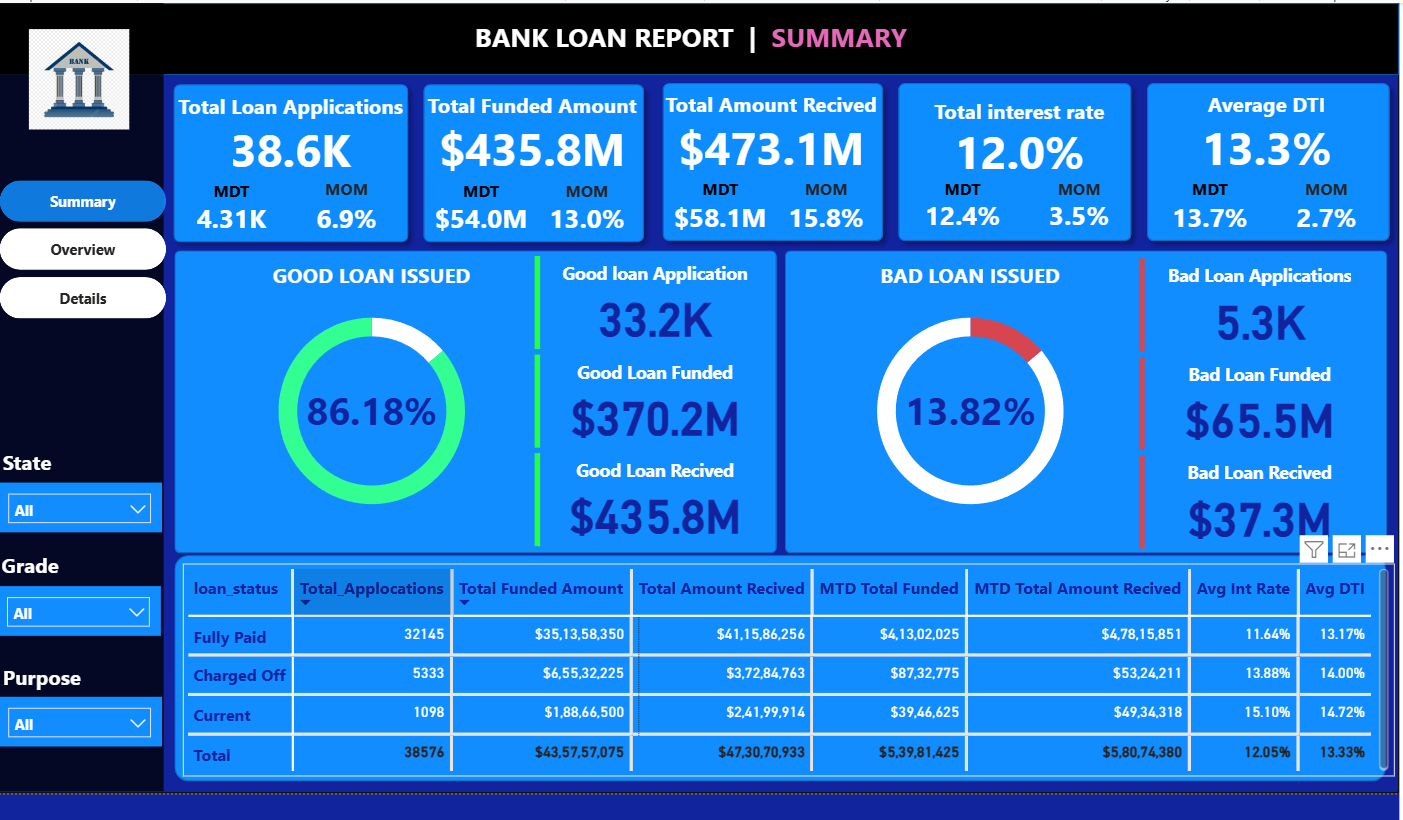

Layout of this report page (visuals, bound fields, positions):
{"tool":"powerbi","page":{"name":"Summary","canvas":[1280,720],"ordinal":0},"visuals":[{"type":"shape","box":[0,0,1280.1,65.8],"z":0},{"type":"textbox","box":[431.8,8.9,416.6,46.8],"z":1000},{"type":"shape","box":[0,0,153.2,719.2],"z":2000},{"type":"shape","box":[599.6,64.1,218.9,162.1],"z":3000,"group":"g3"},{"type":"shape","box":[814.3,64.1,230.4,162.1],"z":3000,"group":"g4"},{"type":"shape","box":[1040.3,64.1,239.3,162.1],"z":3000,"group":"g5"},{"type":"group","id":"g1","title":"Group 1","box":[149.2,65.5,241.2,163.1],"z":3000},{"type":"shape","box":[153.7,65.5,232,162.1],"z":3000,"group":"g1"},{"type":"shape","box":[380.7,65.5,219,162.1],"z":3000,"group":"g2"},{"type":"group","id":"g2","title":"Group 1","box":[380.7,65.5,218.9,161.8],"z":4000},{"type":"card","title":"Total Amount Recived","fields":{"Values":["financial_loan.Total Amount Recived"]},"box":[599.7,79.2,216.2,78.8],"z":4000,"group":"g3"},{"type":"card","title":"Average DTI","fields":{"Values":["financial_loan.Avg DTI"]},"box":[1040.4,79.2,236.3,78.8],"z":4000,"group":"g5"},{"type":"card","title":"Total Funded Amount","fields":{"Values":["financial_loan.Total_Amount"]},"box":[380.8,80.6,216.3,78.8],"z":4000,"group":"g2"},{"type":"card","title":"Total Loan Applications","fields":{"Values":["Date Table.Total_Apps"]},"box":[149.2,81.5,240.1,77.3],"z":4000,"group":"g1"},{"type":"card","title":"Total interest rate","fields":{"Values":["financial_loan.Total Int Rate"]},"box":[815.1,85.5,236.8,72.3],"z":4000,"group":"g4"},{"type":"group","id":"g3","title":"Group 1","box":[599.6,64.1,218.9,163.1],"z":5000},{"type":"card","title":"MDT","fields":{"Values":["financial_loan.MTD Total intrest rate"]},"box":[825.1,159.1,113.4,49.9],"z":5000,"group":"g4"},{"type":"card","title":"MDT","fields":{"Values":["financial_loan.MTD Total Amount Recived"]},"box":[608.9,159.4,103.5,54.4],"z":5000,"group":"g3"},{"type":"card","title":"MDT","fields":{"Values":["financial_loan.MTD Avg DTI"]},"box":[1050.4,159.4,113.1,54.4],"z":5000,"group":"g5"},{"type":"card","title":"MDT","fields":{"Values":["financial_loan.MTD Total Amount"]},"box":[390,160.8,103.5,54.4],"z":5000,"group":"g2"},{"type":"card","title":"MDT","fields":{"Values":["Date Table.MTD Loan Application"]},"box":[178,161.5,73.6,54.4],"z":5000,"group":"g1"},{"type":"group","id":"g4","title":"Group 1","box":[814.3,64.1,235.7,163.1],"z":6000},{"type":"card","title":"MOM","fields":{"Values":["financial_loan.MoM int rate"]},"box":[931.3,159.1,113.4,49.9],"z":6000,"group":"g4"},{"type":"card","title":"MOM","fields":{"Values":["financial_loan.MoM Total Amount Recived"]},"box":[705.8,159.4,103.5,54.4],"z":6000,"group":"g3"},{"type":"card","title":"MOM","fields":{"Values":["financial_loan.MoM Avg DTI"]},"box":[1156.4,159.4,113.1,54.4],"z":6000,"group":"g5"},{"type":"card","title":"MOM","fields":{"Values":["financial_loan.MoM"]},"box":[277.5,160.2,86.1,55.8],"z":6000,"group":"g1"},{"type":"card","title":"MOM","fields":{"Values":["financial_loan.MoM Total Amount"]},"box":[487,160.8,103.5,54.4],"z":6000,"group":"g2"},{"type":"group","id":"g5","title":"Group 1","box":[0.6,64.1,1279,418.6],"z":7000,"group":"g10"},{"type":"shape","box":[163.1,225.9,549.4,276.1],"z":7000},{"type":"shape","box":[719.5,225.9,549.4,276.1],"z":8000},{"type":"group","id":"g6","title":"Group 2","box":[178.3,235.8,329.5,247.9],"z":9000},{"type":"cardVisual","fields":{"Data":["financial_loan.Goodc Loan Applications","financial_loan.Good Loan Funded","financial_loan.Good Loan Recived"]},"box":[486.5,225.8,230.8,275.6],"z":10000},{"type":"donutChart","title":"GOOD LOAN ISSUED","fields":{"Y":["CountNonNull(financial_loan.Status Catogory)"],"Category":["financial_loan.Status Catogory"]},"box":[178.3,235.8,329.5,247.9],"z":10000,"group":"g9"},{"type":"donutChart","title":"BAD LOAN ISSUED","fields":{"Y":["CountNonNull(financial_loan.Status Catogory)"],"Category":["financial_loan.Status Catogory"]},"box":[723.9,235.8,329.5,247.9],"z":10000,"group":"g8"},{"type":"cardVisual","fields":{"Data":["financial_loan.Bad Loan Applications","financial_loan.Bad Loan Funded","financial_loan.Bad Loan Recived"]},"box":[1037.7,227.5,230.8,275.6],"z":11000},{"type":"card","fields":{"Values":["financial_loan.Good loan Application"]},"box":[276.1,311.4,134,119.4],"z":11000,"group":"g9"},{"type":"card","fields":{"Values":["financial_loan.Bad loan Application"]},"box":[821.7,311.4,134,119.4],"z":11000,"group":"g8"},{"type":"group","id":"g7","title":"Group 3","box":[178.3,235.8,329.5,247.9],"z":11002,"group":"g6"},{"type":"group","id":"g8","title":"Group 4","box":[723.9,235.8,328.7,247.4],"z":12000},{"type":"group","id":"g9","title":"Group 4","box":[178.3,235.8,329.5,247.9],"z":12001,"group":"g7"},{"type":"shape","box":[163.3,503.9,1105.4,206.4],"z":13000},{"type":"slicer","fields":{"Values":["financial_loan.grade"]},"box":[-0.4,531.6,150.7,45.6],"z":14000},{"type":"slicer","fields":{"Values":["financial_loan.address_state"]},"box":[0.6,437.2,150.7,45.6],"z":14001,"group":"g5"},{"type":"slicer","fields":{"Values":["financial_loan.purpose"]},"box":[0.7,632.7,150.7,45.6],"z":15000},{"type":"pivotTable","fields":{"Rows":["financial_loan.loan_status"],"Values":["Date Table.Total_Applocations","financial_loan.Total_Amount","financial_loan.Total Amount Recived","financial_loan.MTD Total Amount","financial_loan.MTD Total Amount Recived","financial_loan.Total Int Rate","financial_loan.Avg DTI"]},"box":[170.9,511.5,1105.4,193.7],"z":16000},{"type":"textbox","box":[1.1,401.1,77.2,36.7],"z":16002,"group":"g10"},{"type":"textbox","box":[0.1,495.5,77.2,36.7],"z":17000},{"type":"textbox","box":[0.9,597.1,100,36.7],"z":18000},{"type":"group","id":"g10","title":"Group 5","box":[0.6,64.1,1279,418.6],"z":19000},{"type":"pageNavigator","box":[2.9,161.7,152.8,126.4],"z":19001},{"type":"image","box":[25,8.8,101.4,122],"z":19002}]}

Visuals, with their boxes on the page's 1280x720 design canvas (x1, y1, x2, y2). These are canvas units, not pixel positions in the 1403x820 screenshot, which may show the page scaled, cropped or inside an application window:
shape: Rect(0, 0, 1280, 66)
textbox: Rect(432, 9, 848, 56)
shape: Rect(0, 0, 153, 719)
shape: Rect(600, 64, 818, 226)
shape: Rect(814, 64, 1045, 226)
shape: Rect(1040, 64, 1280, 226)
"Group 1" group: Rect(149, 66, 390, 229)
shape: Rect(154, 66, 386, 228)
shape: Rect(381, 66, 600, 228)
"Group 1" group: Rect(381, 66, 600, 227)
"Total Amount Recived" card: Rect(600, 79, 816, 158)
"Average DTI" card: Rect(1040, 79, 1277, 158)
"Total Funded Amount" card: Rect(381, 81, 597, 159)
"Total Loan Applications" card: Rect(149, 82, 389, 159)
"Total interest rate" card: Rect(815, 86, 1052, 158)
"Group 1" group: Rect(600, 64, 818, 227)
"MDT" card: Rect(825, 159, 938, 209)
"MDT" card: Rect(609, 159, 712, 214)
"MDT" card: Rect(1050, 159, 1164, 214)
"MDT" card: Rect(390, 161, 494, 215)
"MDT" card: Rect(178, 162, 252, 216)
"Group 1" group: Rect(814, 64, 1050, 227)
"MOM" card: Rect(931, 159, 1045, 209)
"MOM" card: Rect(706, 159, 809, 214)
"MOM" card: Rect(1156, 159, 1270, 214)
"MOM" card: Rect(278, 160, 364, 216)
"MOM" card: Rect(487, 161, 590, 215)
"Group 1" group: Rect(1, 64, 1280, 483)
shape: Rect(163, 226, 712, 502)
shape: Rect(720, 226, 1269, 502)
"Group 2" group: Rect(178, 236, 508, 484)
cardVisual - financial_loan.Goodc Loan Applications x financial_loan.Good Loan Funded: Rect(486, 226, 717, 501)
"GOOD LOAN ISSUED" donutChart: Rect(178, 236, 508, 484)
"BAD LOAN ISSUED" donutChart: Rect(724, 236, 1053, 484)
cardVisual - financial_loan.Bad Loan Applications x financial_loan.Bad Loan Funded: Rect(1038, 228, 1268, 503)
card - financial_loan.Good loan Application: Rect(276, 311, 410, 431)
card - financial_loan.Bad loan Application: Rect(822, 311, 956, 431)
"Group 3" group: Rect(178, 236, 508, 484)
"Group 4" group: Rect(724, 236, 1053, 483)
"Group 4" group: Rect(178, 236, 508, 484)
shape: Rect(163, 504, 1269, 710)
slicer - financial_loan.grade: Rect(0, 532, 150, 577)
slicer - financial_loan.address_state: Rect(1, 437, 151, 483)
slicer - financial_loan.purpose: Rect(1, 633, 151, 678)
pivotTable - financial_loan.loan_status x Date Table.Total_Applocations: Rect(171, 512, 1276, 705)
textbox: Rect(1, 401, 78, 438)
textbox: Rect(0, 496, 77, 532)
textbox: Rect(1, 597, 101, 634)
"Group 5" group: Rect(1, 64, 1280, 483)
pageNavigator: Rect(3, 162, 156, 288)
image: Rect(25, 9, 126, 131)
